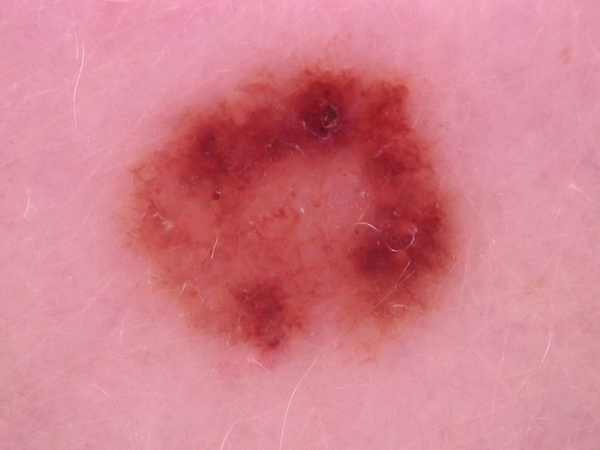Detected Lesion: (116, 58, 469, 362)
